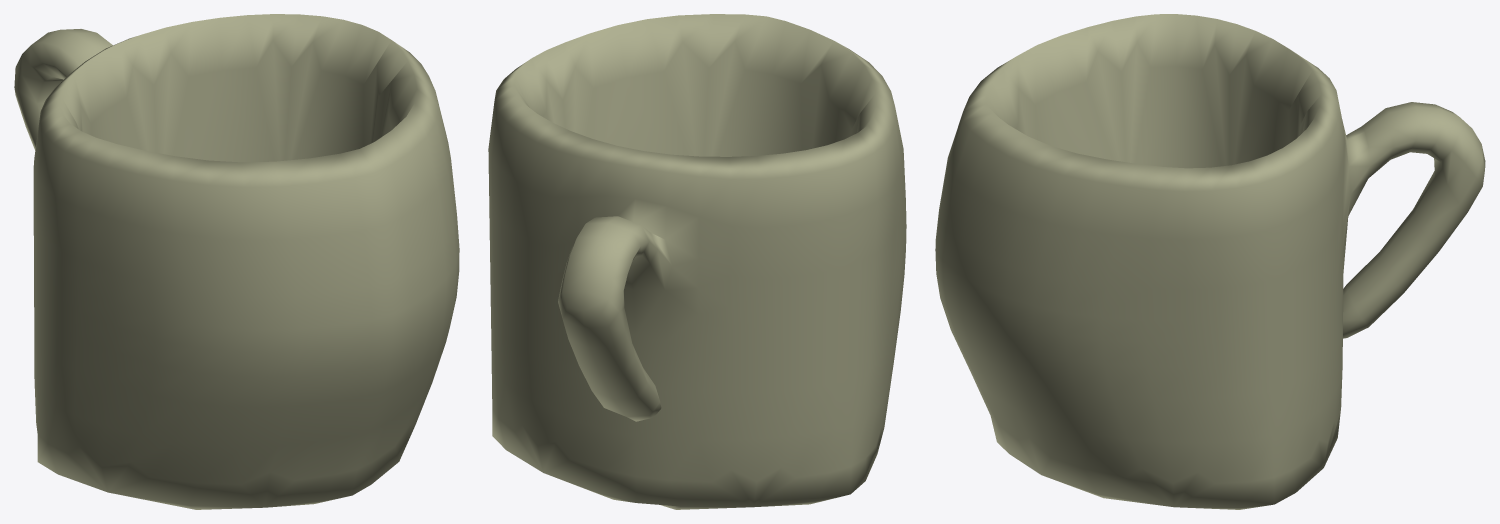
Rendered from taza.fbx.
3 renders of one model, left to right at view 1: azimuth 30°, elevation 25°; view 2: azimuth 150°, elevation 25°; view 3: azimuth 270°, elevation 25°, orthographic. The views are drawn at different scales.
Parts seen in each view (by area): view 1: Base_Taza1; view 2: Base_Taza1; view 3: Base_Taza1.
Boxes of the visible parts, x1=… form: Base_Taza1: x1=14, y1=14, x2=459, y2=509; Base_Taza1: x1=488, y1=14, x2=906, y2=509; Base_Taza1: x1=935, y1=14, x2=1485, y2=509.
Size of the model in its own units: 10.16 by 9.69 by 13.5.
